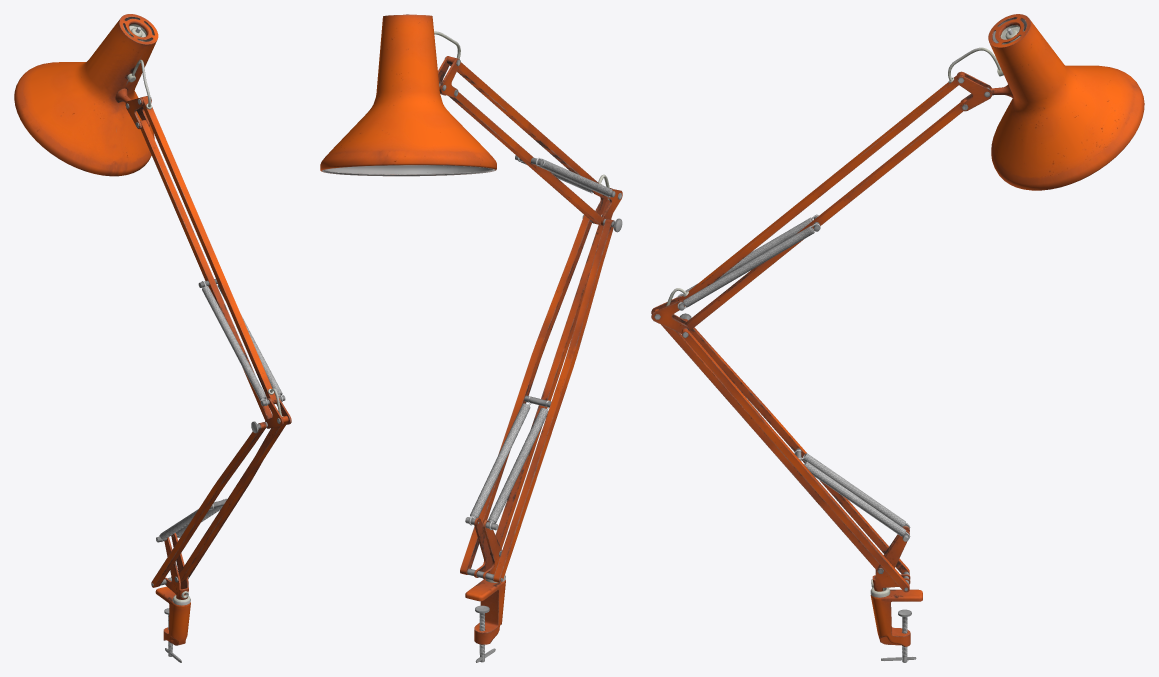
Rendered from retro-lamp.glb.
3 renders of one model, left to right at view 1: azimuth 30°, elevation 25°; view 2: azimuth 150°, elevation 25°; view 3: azimuth 270°, elevation 25°, orthographic. The views are drawn at different scales.
Size of the model in its own units: 0.2018 by 0.8926 by 0.6139.
Materials: 2 (2 with a texture image).
